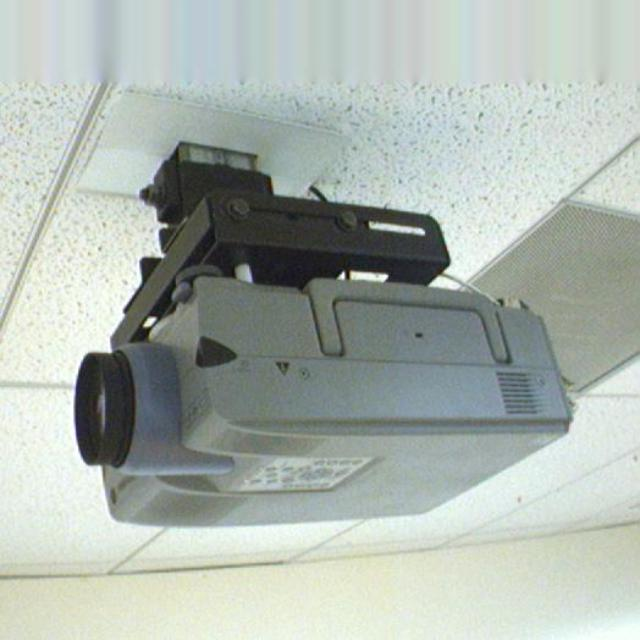Projector: (74, 266, 576, 528)
